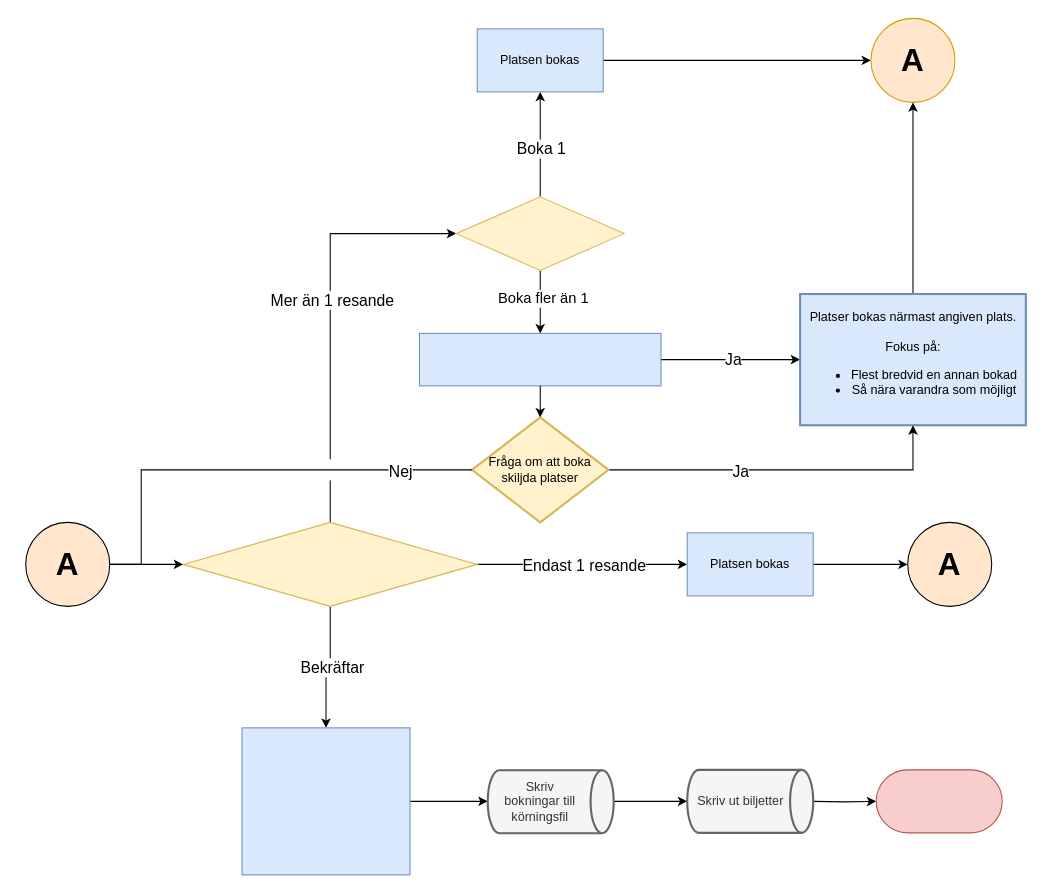
This 1045x894 diagram has some shape labels left out. The centre of each missing label's shape, as x and y in pixels:
Användaren väljer en plats eller bekräftar: point (329, 563)
Avgör ifall det finns tillräckligt med platser intill varandra: point (539, 359)
Boka alla eller endast 1: point (539, 233)
Slut: point (938, 801)
Visa bokningsbekräftelse med: Alla platser Alla platstyper Avgångstid Tågnummer: point (325, 801)
